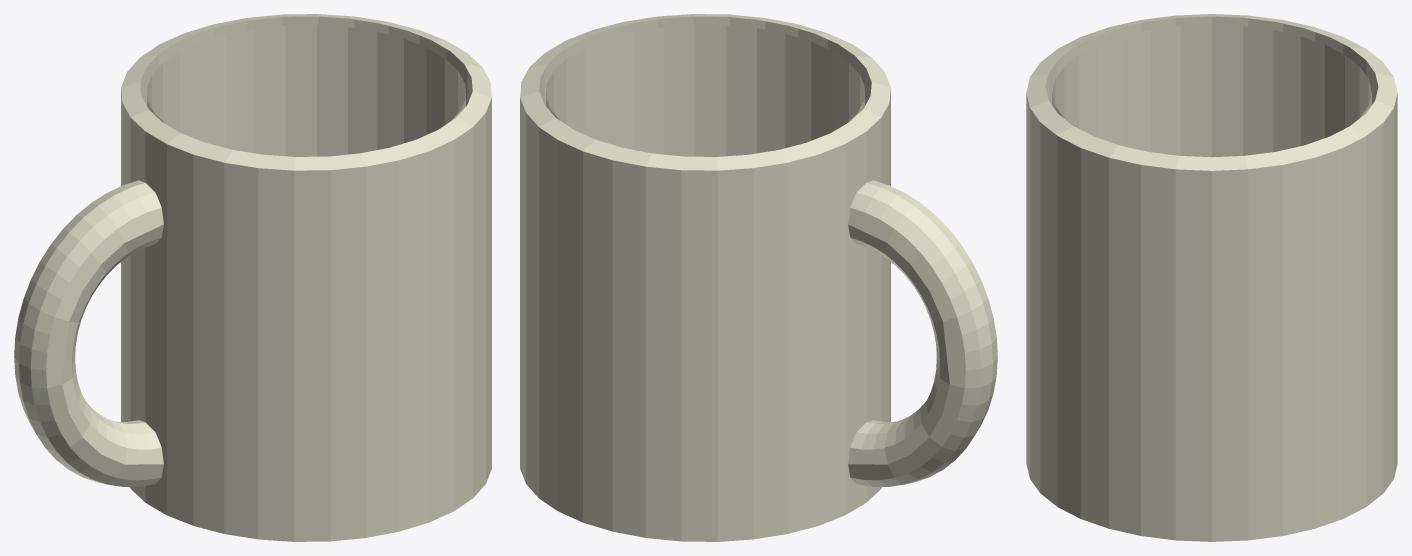
Rendered from mug.glb.
3 views of the same model, side by side, from view 1: azimuth 30°, elevation 25°; view 2: azimuth 150°, elevation 25°; view 3: azimuth 270°, elevation 25° (orthographic).
Parts seen in each view (by area): view 1: Cylinder; view 2: Cylinder; view 3: Cylinder.
Boxes of the visible parts, box(x1,y1,x2,y2) form: Cylinder: box(14, 14, 491, 541); Cylinder: box(520, 14, 997, 541); Cylinder: box(1026, 14, 1397, 541).
Size of the model in its own units: 2.79 by 2.24 by 2.
